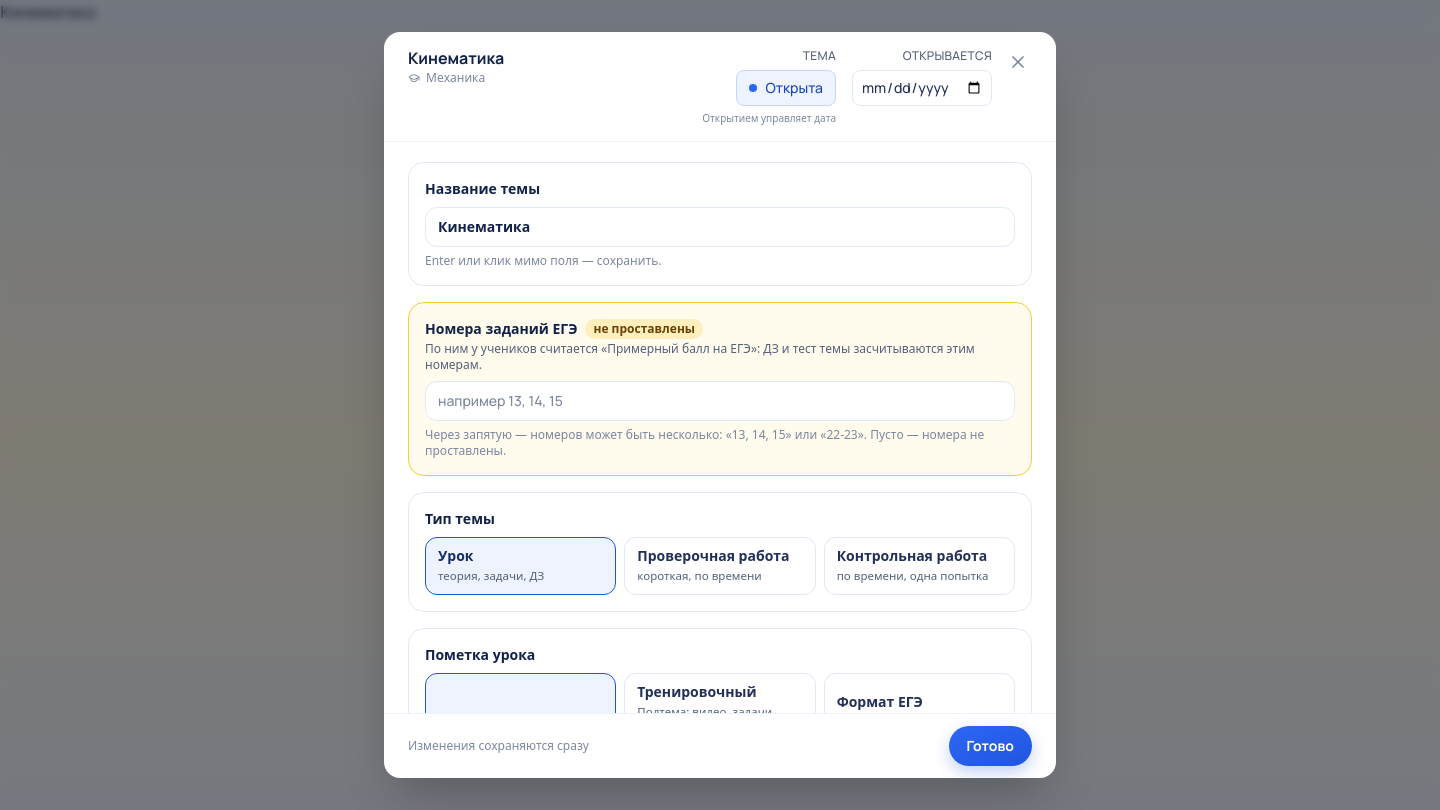
Название темы в окне темы (§258) › прочий сбой — текст ошибки сервера
Replace the text in the field with test id "topic-title-input" with "Динамика": (720, 227) [425, 207, 1015, 247]
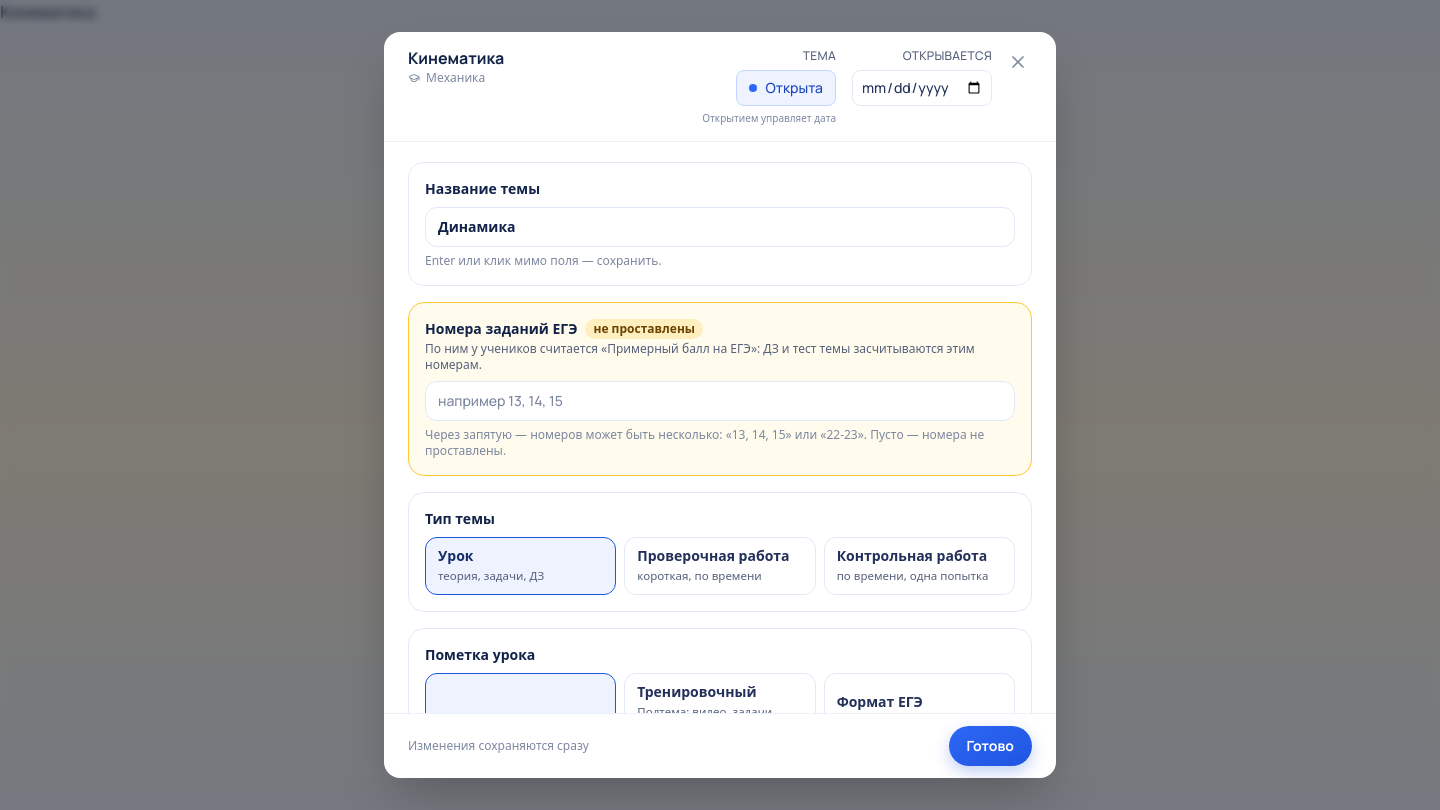
Leave the field with test id "topic-title-input", box [425, 207, 1015, 247]
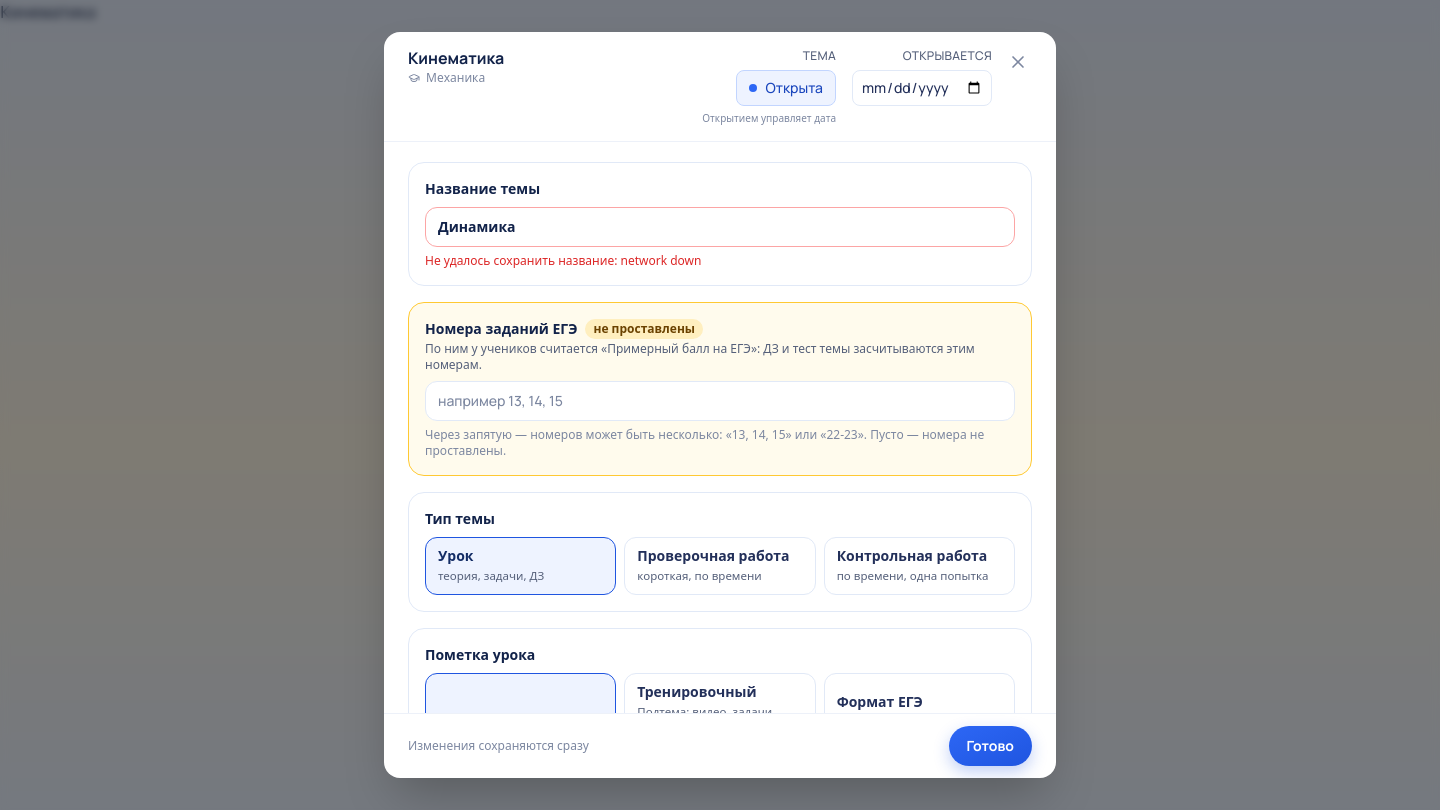
Check: the message with test id "topic-title-error" reads "Не удалось сохранить название: network down", box [425, 252, 701, 269]
